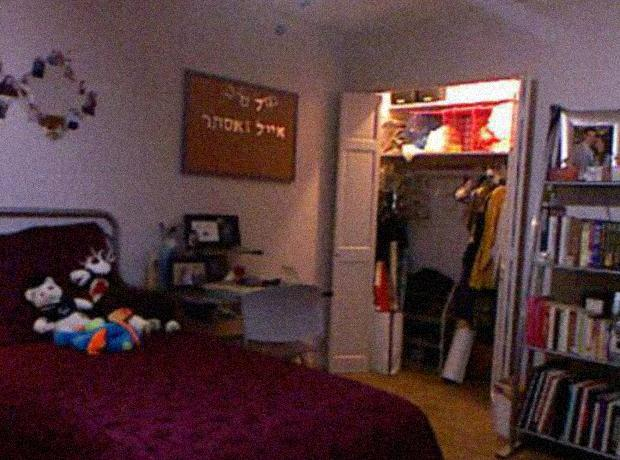Armario: (354, 69, 535, 391)
Bote de Basura: (486, 373, 530, 441)
